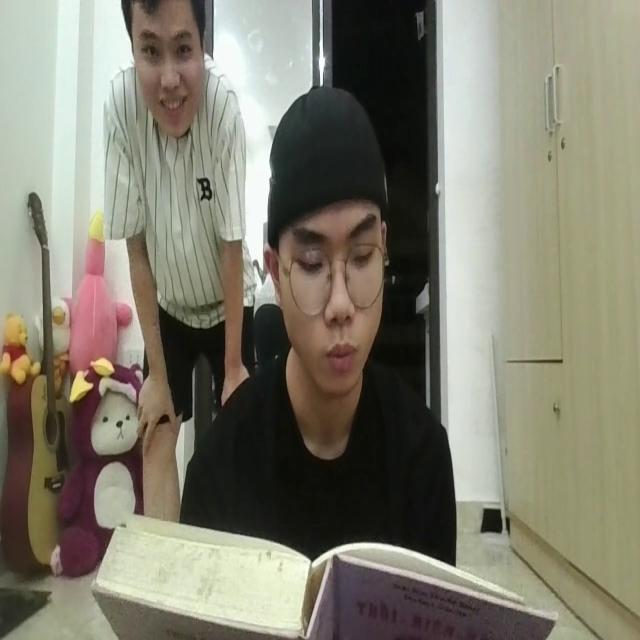book: (92, 498, 552, 640)
extra_person: (94, 0, 258, 495)
student: (196, 87, 463, 554)
